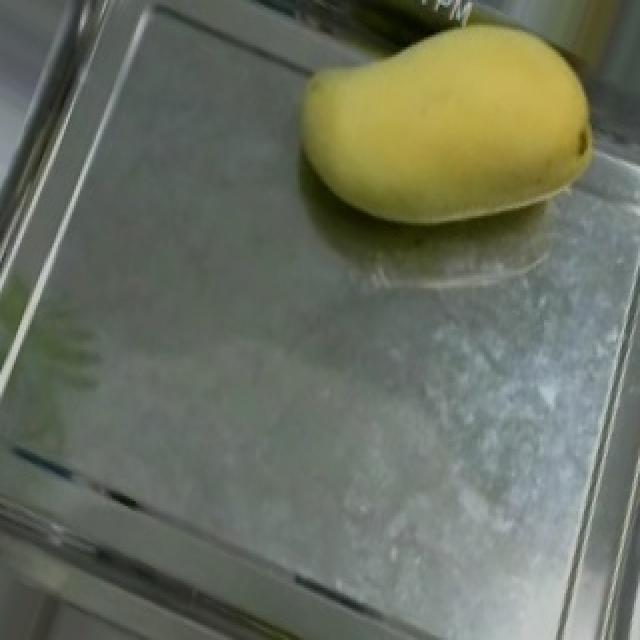fruit: (264, 0, 626, 275)
